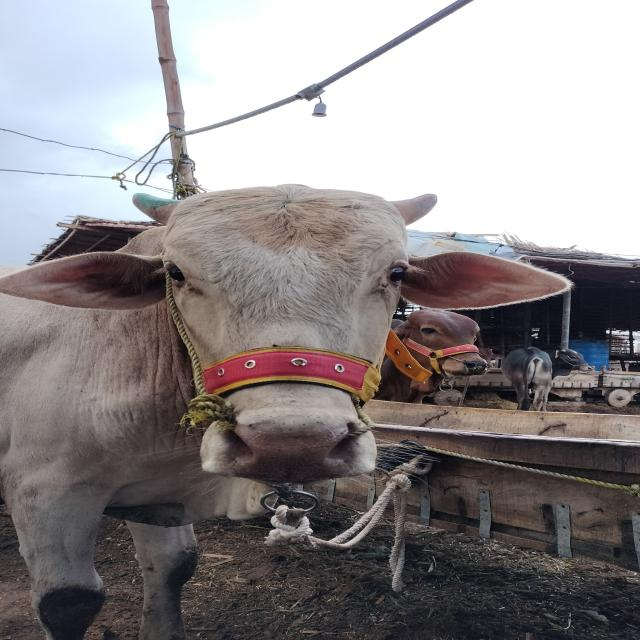muzzles: (202, 414, 381, 488)
